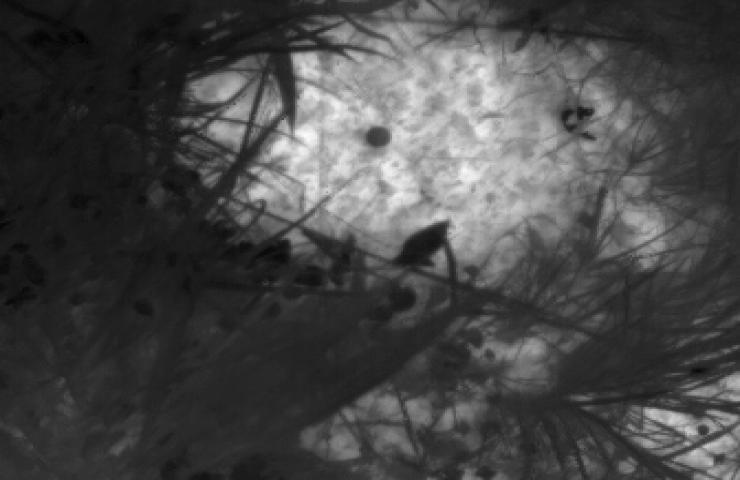landmines: (174, 7, 694, 307)
